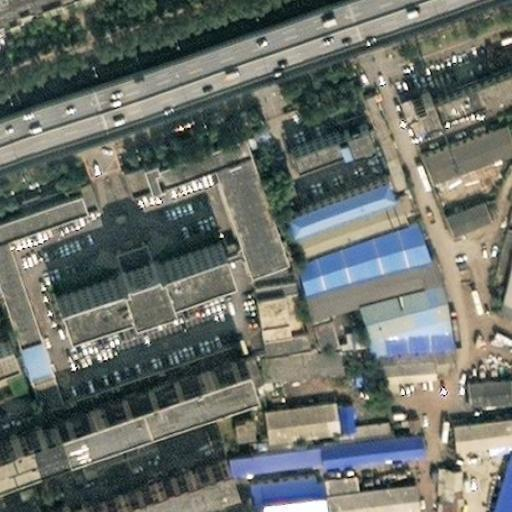building: (119, 113, 280, 256), (0, 169, 83, 372), (46, 230, 221, 314), (9, 445, 226, 512), (288, 206, 421, 283), (296, 239, 435, 309), (279, 181, 406, 248), (348, 264, 446, 341), (404, 46, 512, 104), (281, 158, 387, 212), (411, 114, 504, 172), (281, 105, 367, 155), (240, 460, 321, 511), (318, 468, 412, 506), (313, 417, 417, 450), (246, 335, 334, 372), (244, 252, 289, 322), (359, 336, 442, 372), (256, 389, 332, 426), (0, 379, 58, 427), (479, 428, 512, 512), (237, 430, 315, 458), (446, 400, 512, 431), (490, 210, 512, 303), (432, 188, 481, 225), (459, 362, 504, 393), (360, 100, 388, 149), (388, 78, 418, 121), (300, 500, 399, 512), (256, 316, 302, 341), (300, 304, 330, 337), (327, 411, 379, 428), (427, 452, 452, 483), (316, 460, 350, 478), (431, 483, 451, 512), (225, 405, 247, 429), (329, 390, 345, 417), (245, 505, 299, 512), (334, 322, 359, 337), (502, 371, 512, 389)
